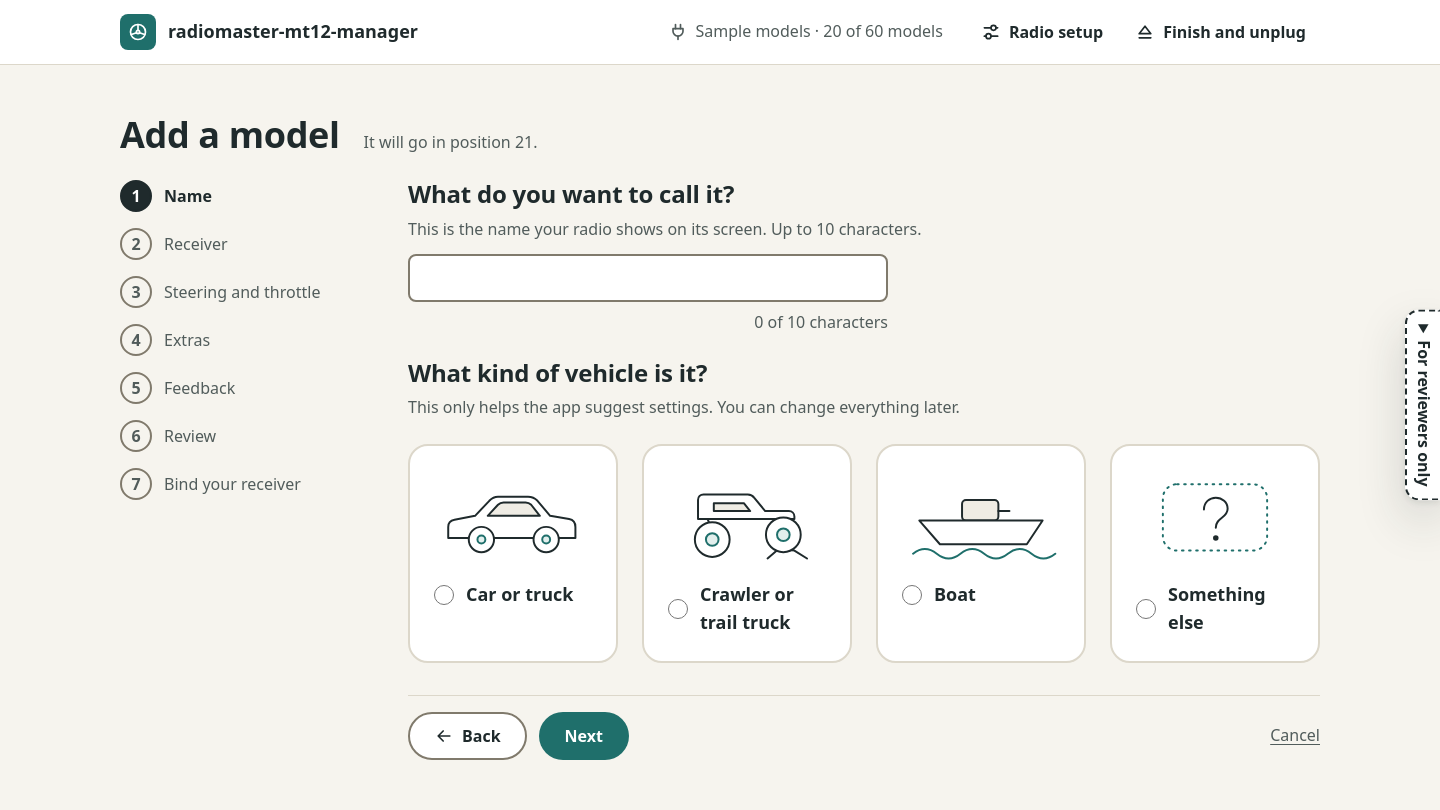
Test: Step 1 asks for a name and a kind of vehicle, and says what is missing when Next is clicked
Expected: the heading "Add a model" is shown, [120, 113, 340, 156]
Expected: the field labelled "What do you want to call it?" is shown, [408, 254, 888, 302]
What coordinates should you click on to do the following:
click the button "Next"
I would click on:
 (584, 736)
Its box is [539, 712, 629, 760].
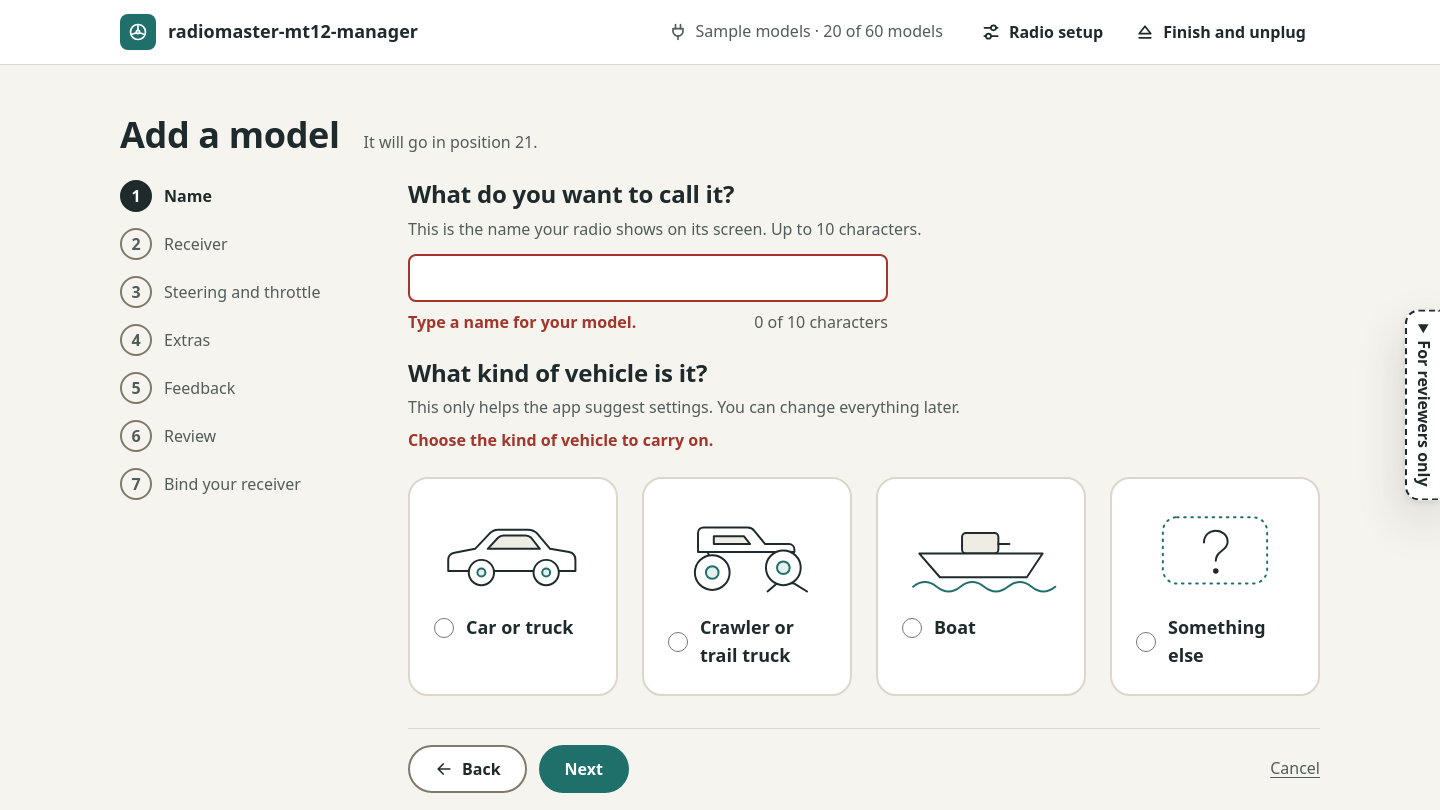
Expected: the text "Type a name for your model." is shown, [408, 310, 636, 335]
Expected: the text "Choose the kind of vehicle to carry on." is shown, [408, 429, 713, 451]
